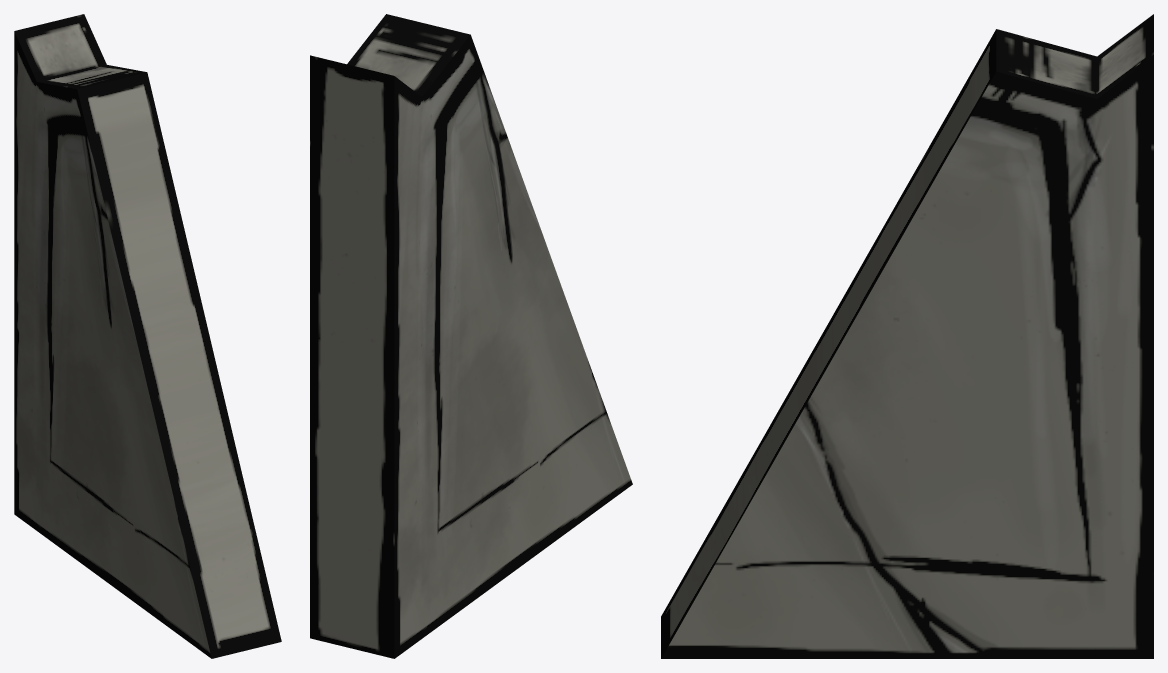
Rendered from tombstone_06_gib2.fbx.
3 views of the same model, side by side, from view 1: azimuth 30°, elevation 25°; view 2: azimuth 150°, elevation 25°; view 3: azimuth 270°, elevation 25° (orthographic). The views are drawn at different scales.
Parts seen in each view (by area): view 1: tombstone_06_gib2; view 2: tombstone_06_gib2; view 3: tombstone_06_gib2.
Part boxes in pixels (bbox=[...]): tombstone_06_gib2: bbox=[14, 14, 281, 658]; tombstone_06_gib2: bbox=[310, 14, 632, 658]; tombstone_06_gib2: bbox=[661, 14, 1153, 658].
Bounding box in the file's own units: 1 × 6.59 × 4.89.
